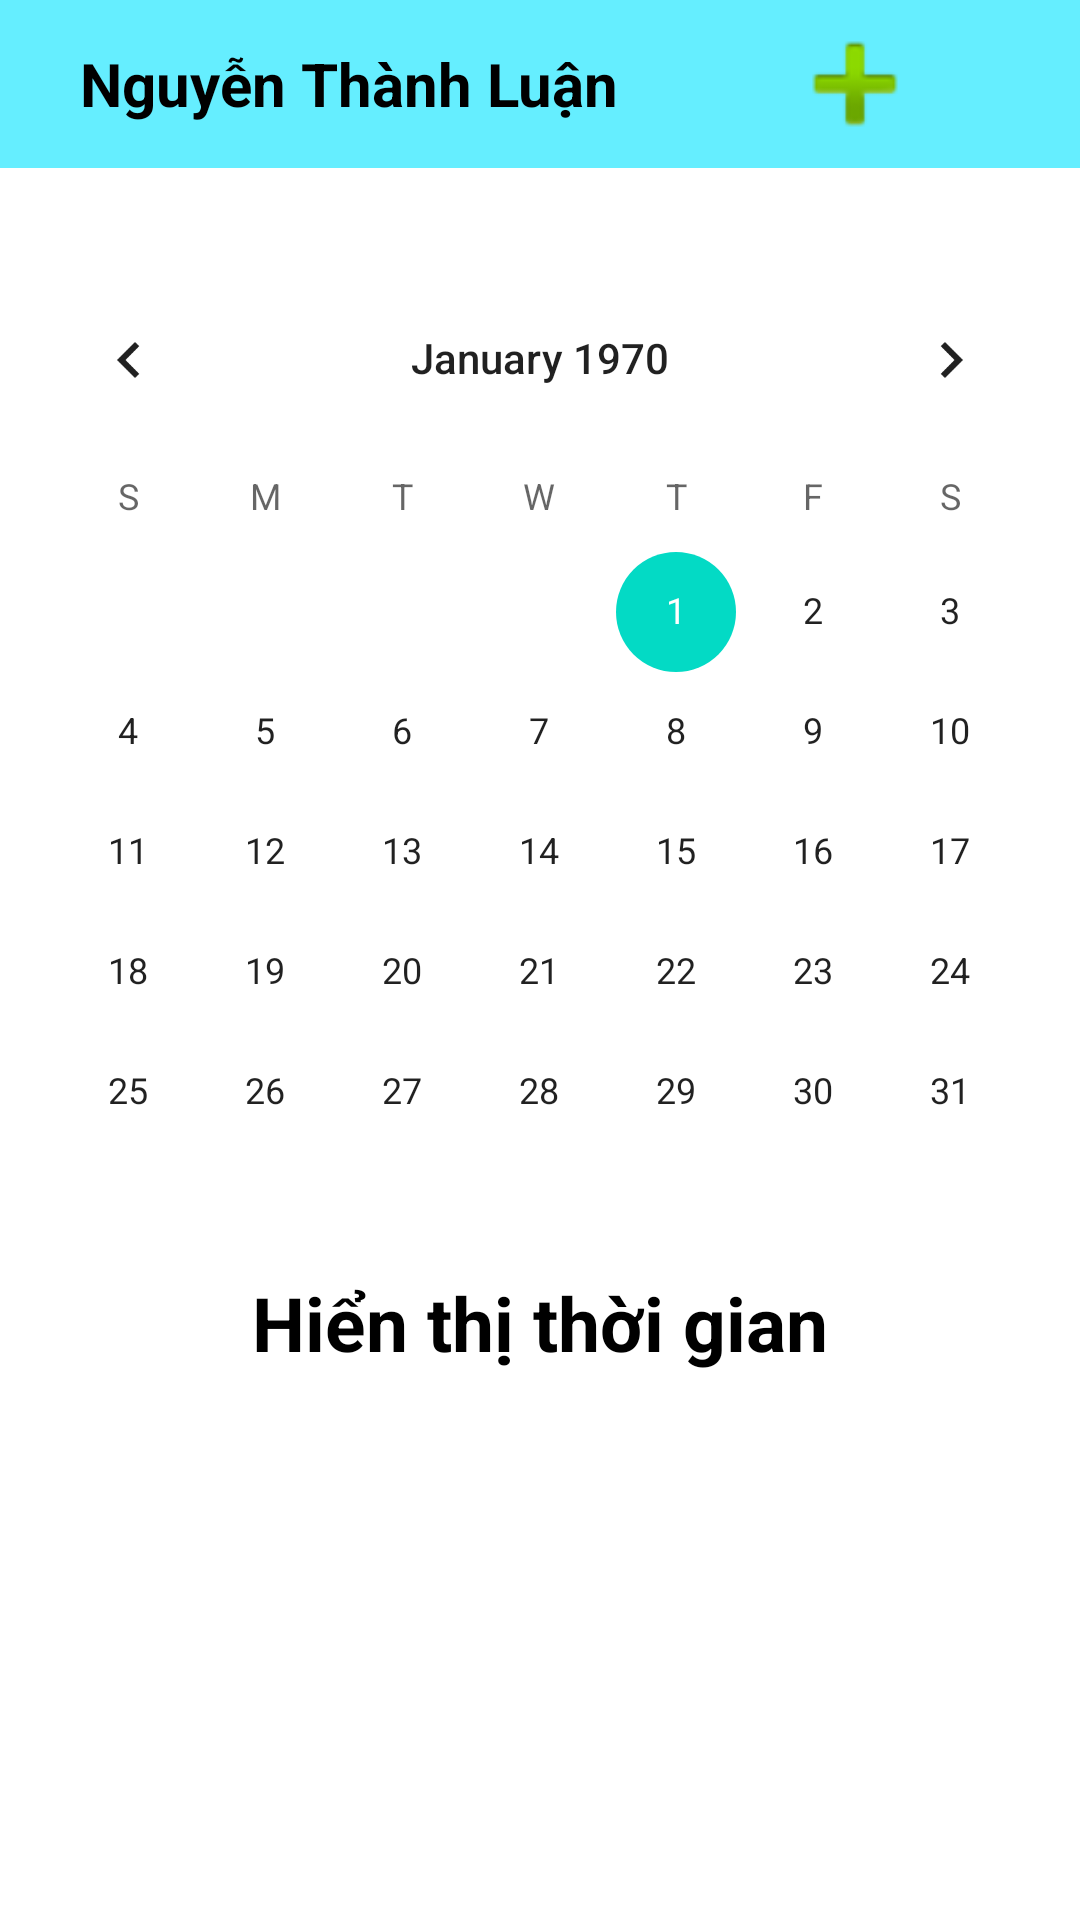

Icon bounding boxes for this 1080x1920 phone screenshot, format {"left": x1, "top": y1, "right": x2, "bottom": y2}:
add: {"left": 812, "top": 41, "right": 898, "bottom": 127}
